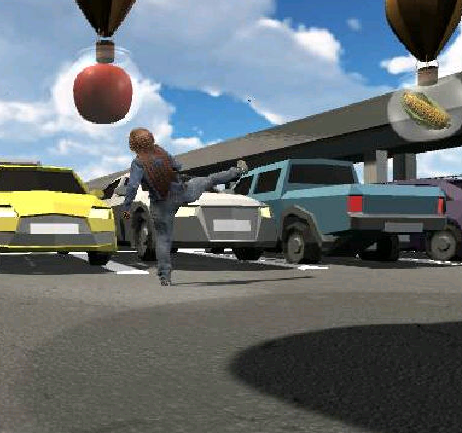turn_right: (115, 126, 253, 287)
